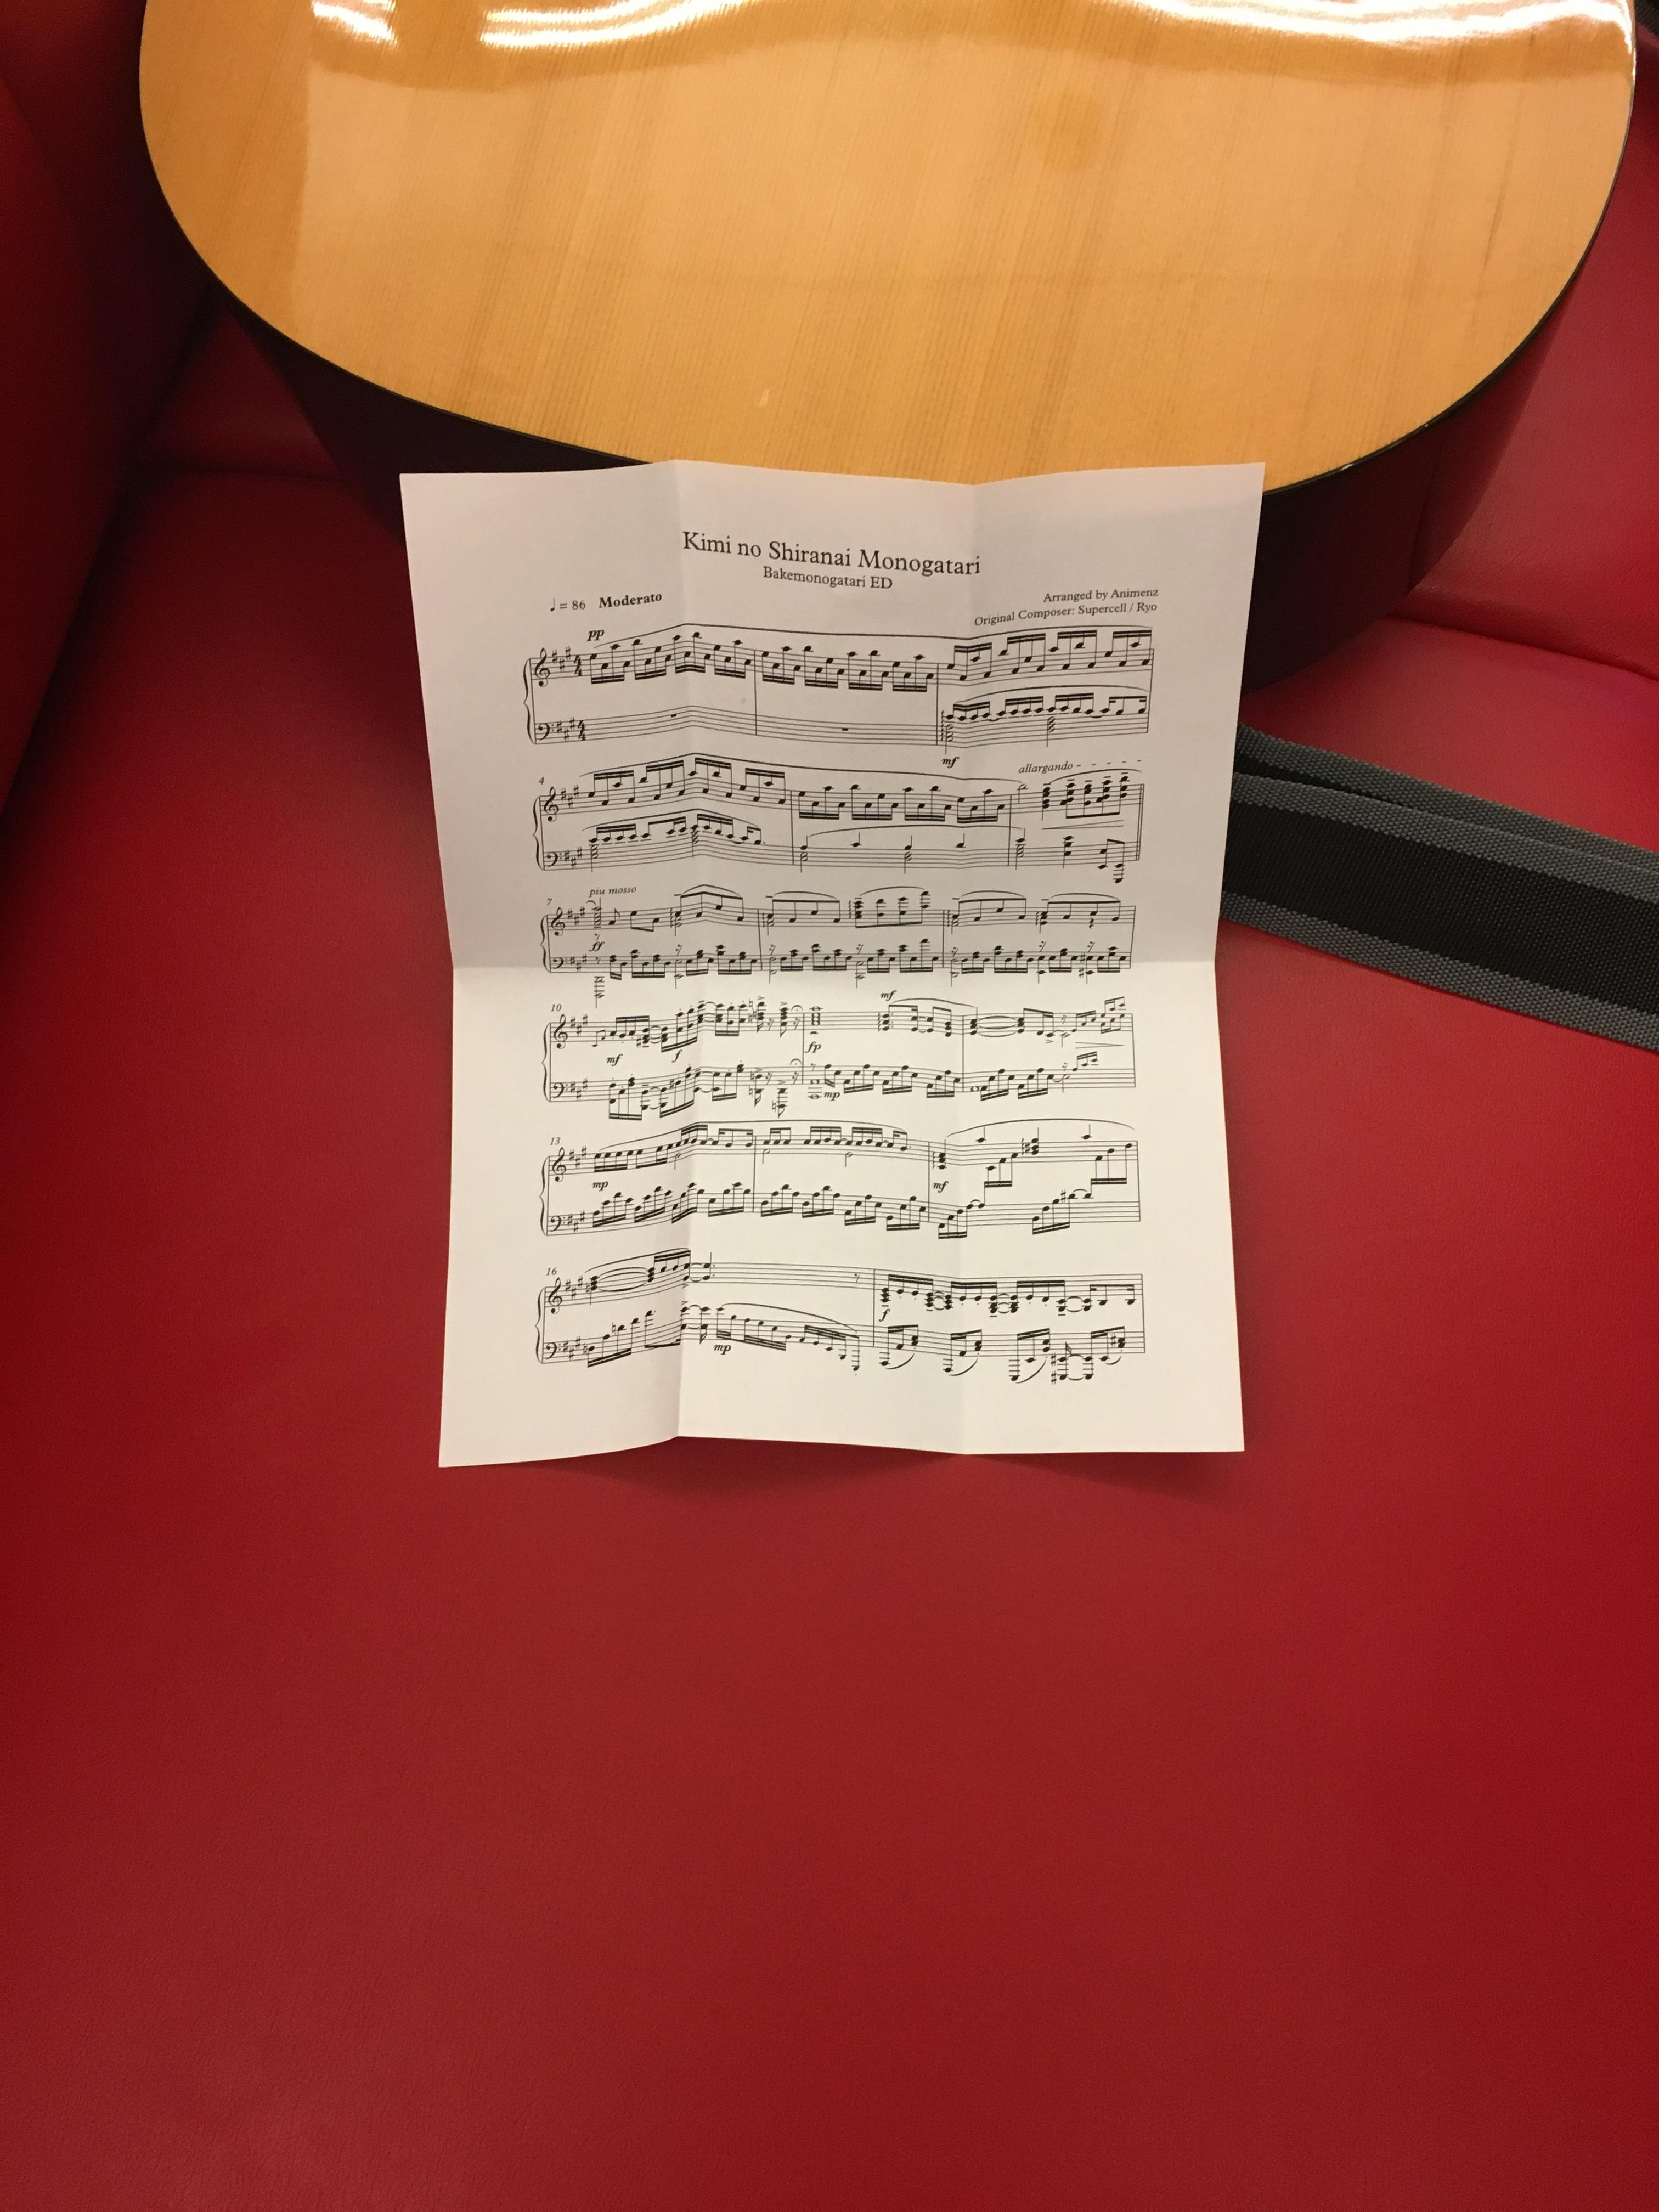paper: (247, 373, 1466, 1778)
